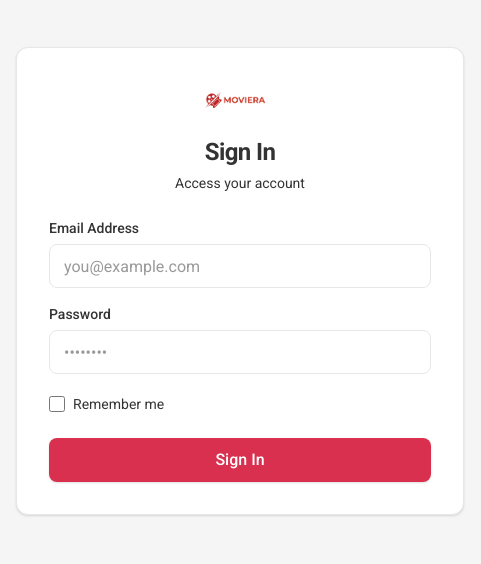
Test: LoginForm Error Handling › renders backend message in the error banner on 401 Unauthorized
Type "user@example.com" into the field labelled "Email Address" at (240, 266), box [49,244,431,288]
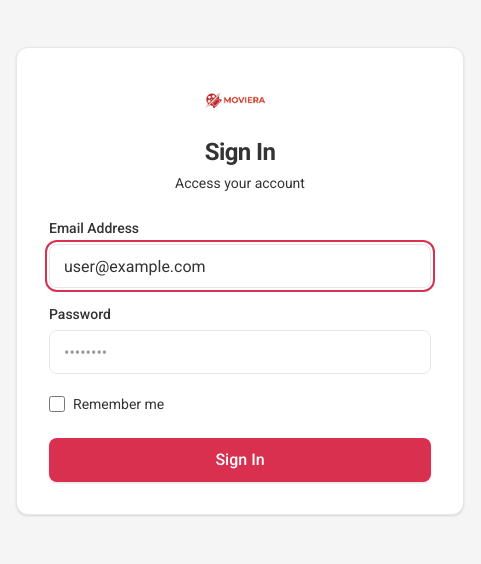
Type "wrongpassword123" into the password field labelled "Password" at (240, 352), box [49,330,431,374]
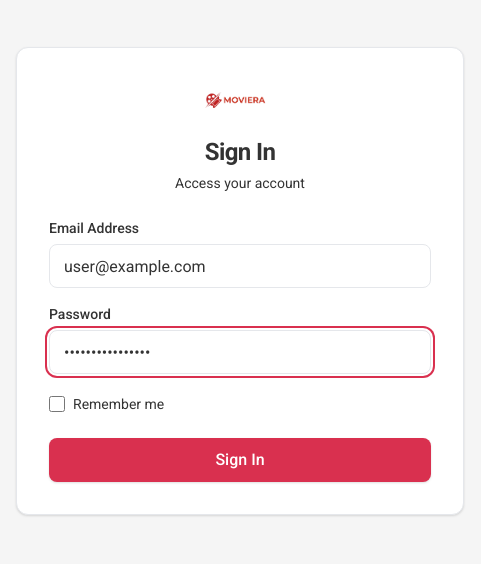
Click the button "Sign In" at (240, 460), box [49,438,431,482]
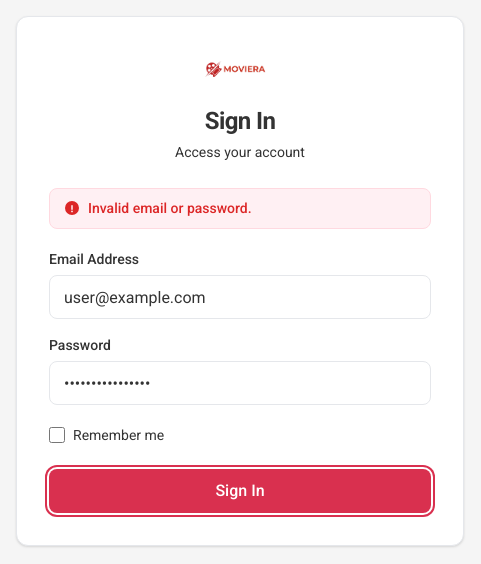
Expected: the message reads "Invalid email or password.", [88,200,252,216]
